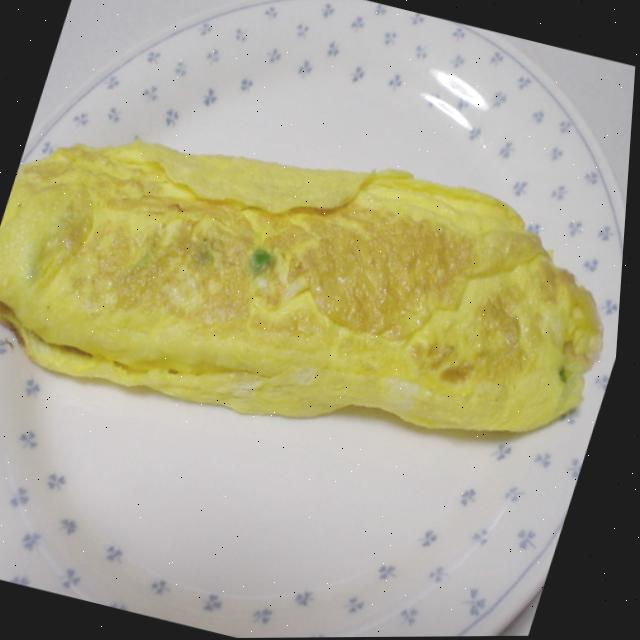鸡蛋料理: (0, 58, 637, 522)
